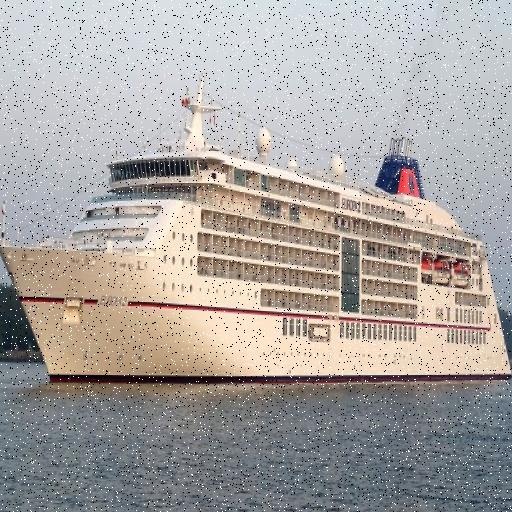cruises: (1, 68, 512, 392)
